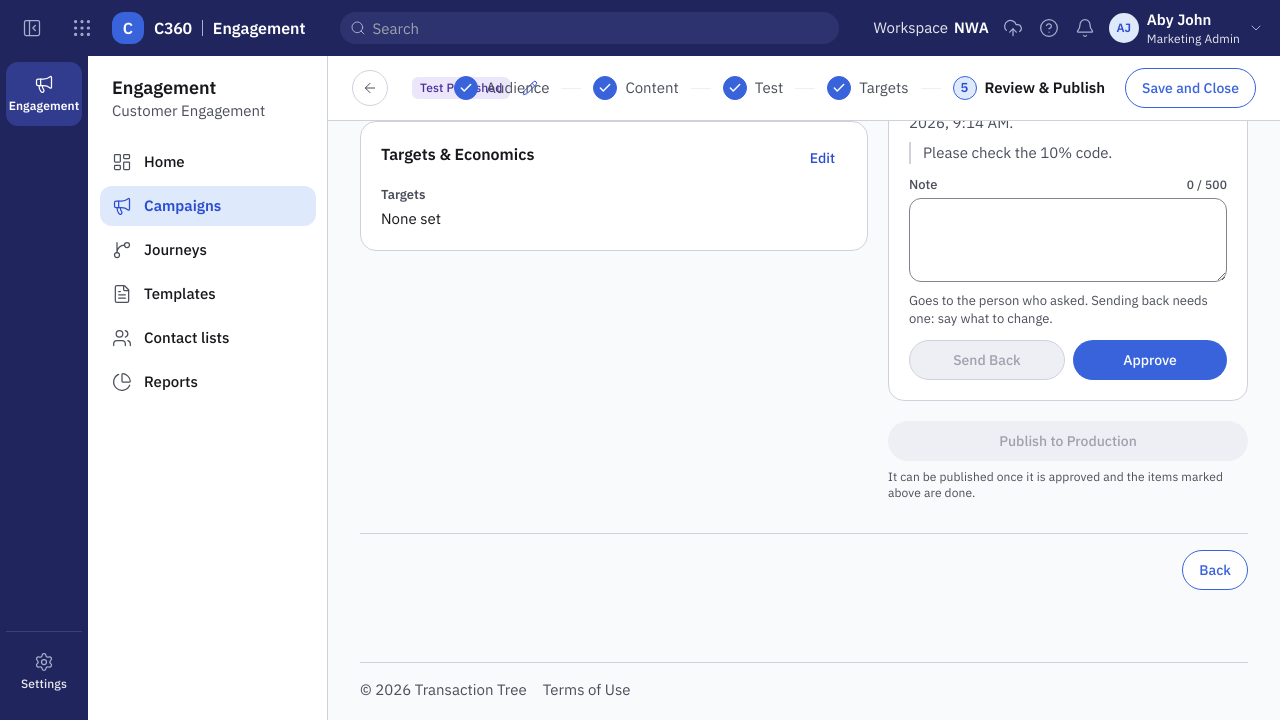
Test case: an approver sees the request and approves it, and the publish opens
(page scrolled)
Expected: the text "Devon Okafor" is shown, [909, 91, 1003, 110]
Expected: the text "Please check the 10% code." is shown, [909, 142, 1227, 164]
Click the button "Approve". click: x=1150, y=360
box: [1073, 340, 1227, 380]
(page scrolled)
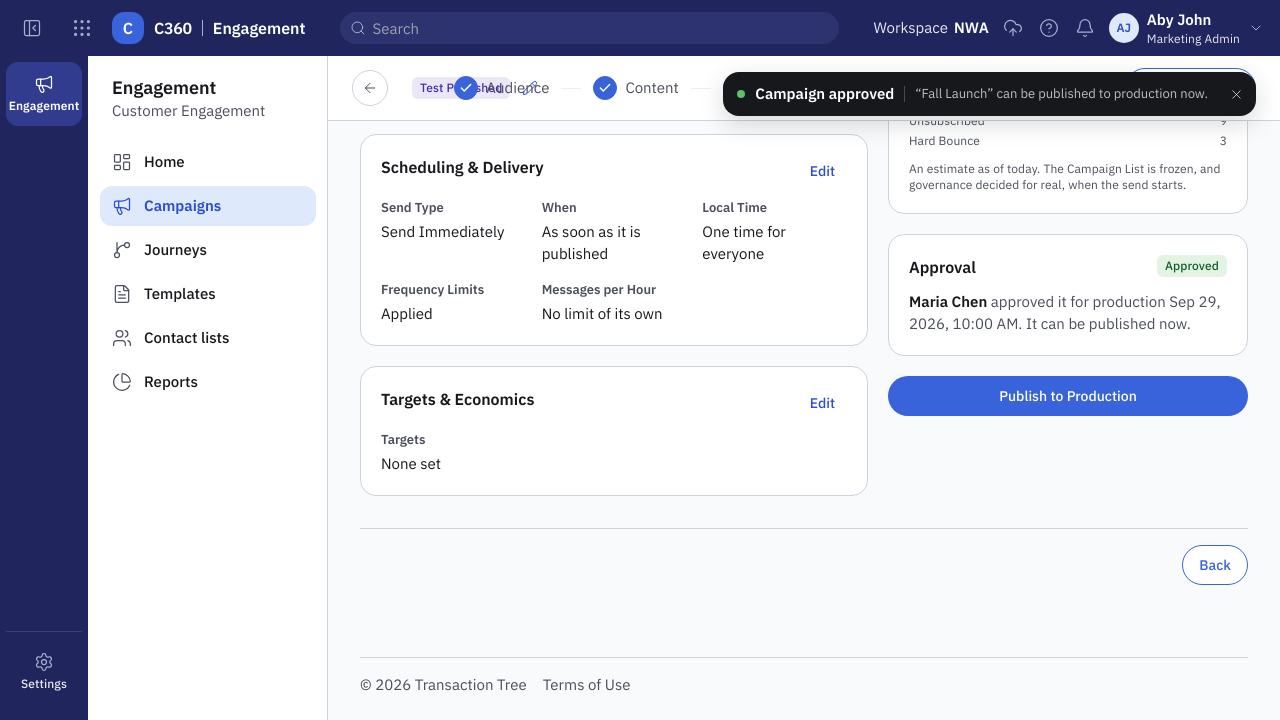
Now the text "Approved" is shown, box [1157, 255, 1227, 277]
Now the button "Publish to Production" is enabled, box [888, 376, 1248, 416]
